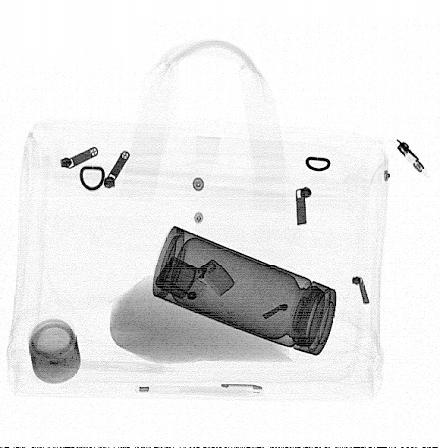Lighter: (155, 256, 235, 301)
